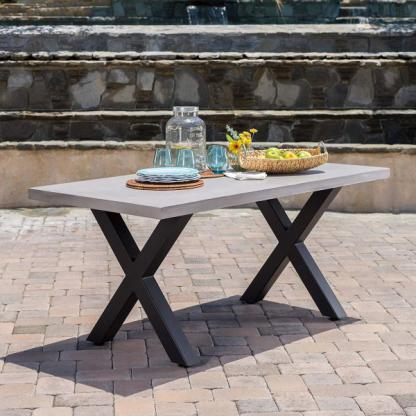table: (26, 144, 394, 372)
